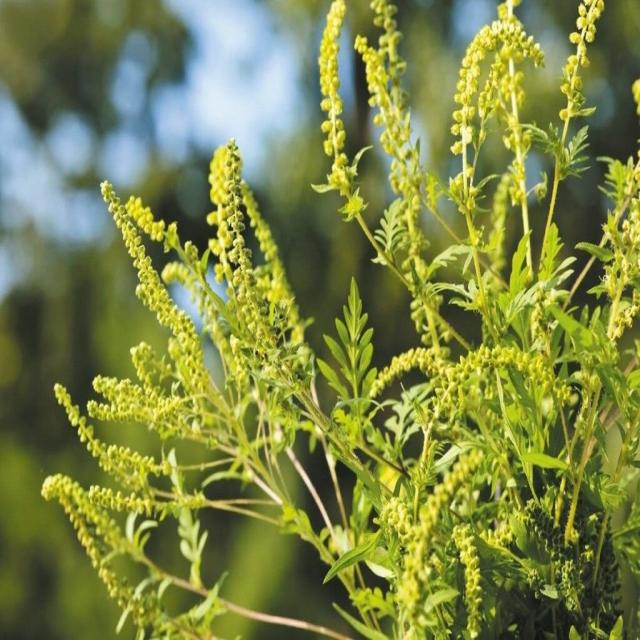ambrosia: (82, 158, 193, 453), (203, 123, 303, 438), (47, 458, 206, 634), (437, 0, 543, 240), (384, 445, 487, 640)
